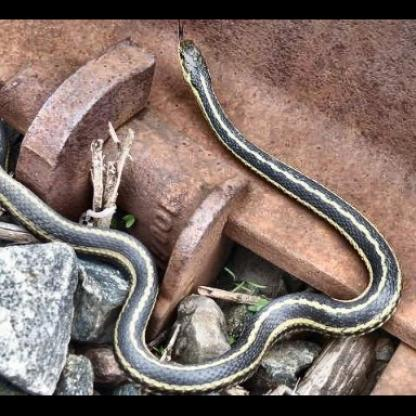Snake: (168, 19, 403, 388)
